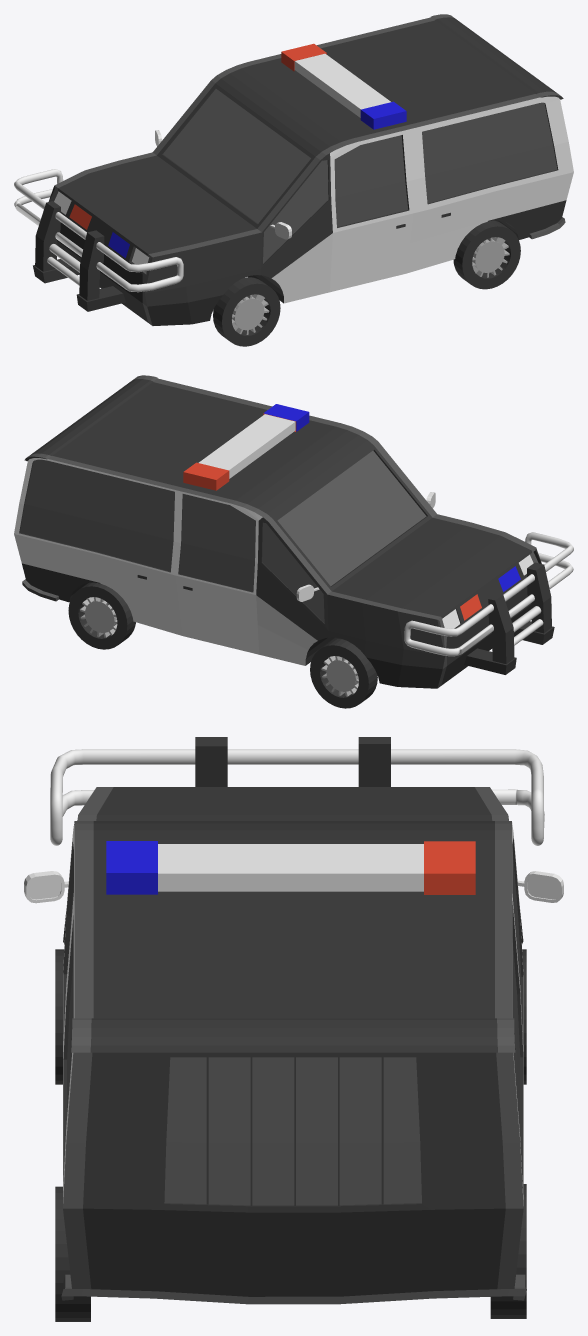
File: Police SUV.fbx
3 renders of one model, top to bottom at view 1: azimuth 30°, elevation 25°; view 2: azimuth 150°, elevation 25°; view 3: azimuth 270°, elevation 25°, orthographic. The views are drawn at different scales.
Parts seen in each view (by area): view 1: Cube.030, Cube.031, Cylinder.157, Tire.036, Tire.037, Spoke.037, Spoke.036; view 2: Cube.030, Cube.031, Cylinder.157, Tire.038, Tire.039, Spoke.039, Spoke.038; view 3: Cube.030, Cube.031, Cylinder.157, Tire.037, Tire.039, Cube.032, Cube.033, Tire.036.
Boxes of the visible parts, x1,y1,x2,y2 form: Cube.030: (33,14,573,325); Cube.031: (281,43,406,129); Cylinder.157: (14,169,183,292); Tire.036: (213,277,280,346); Tire.037: (453,220,520,289); Spoke.037: (472,237,509,277); Spoke.036: (232,294,269,334); Cube.030: (14,375,554,688); Cube.031: (183,404,309,490); Cylinder.157: (404,532,573,656); Tire.038: (310,639,377,708); Tire.039: (68,582,135,649); Spoke.039: (80,597,117,637); Spoke.038: (321,656,358,696); Cube.030: (61,737,526,1304); Cube.031: (106,841,475,894); Cylinder.157: (50,749,544,845); Tire.037: (55,1186,90,1321); Tire.039: (490,1184,526,1318); Cube.032: (24,871,68,903); Cube.033: (517,871,563,902); Tire.036: (55,949,64,1084).
Bounding box in the file's own units: 484 × 188 × 247.
